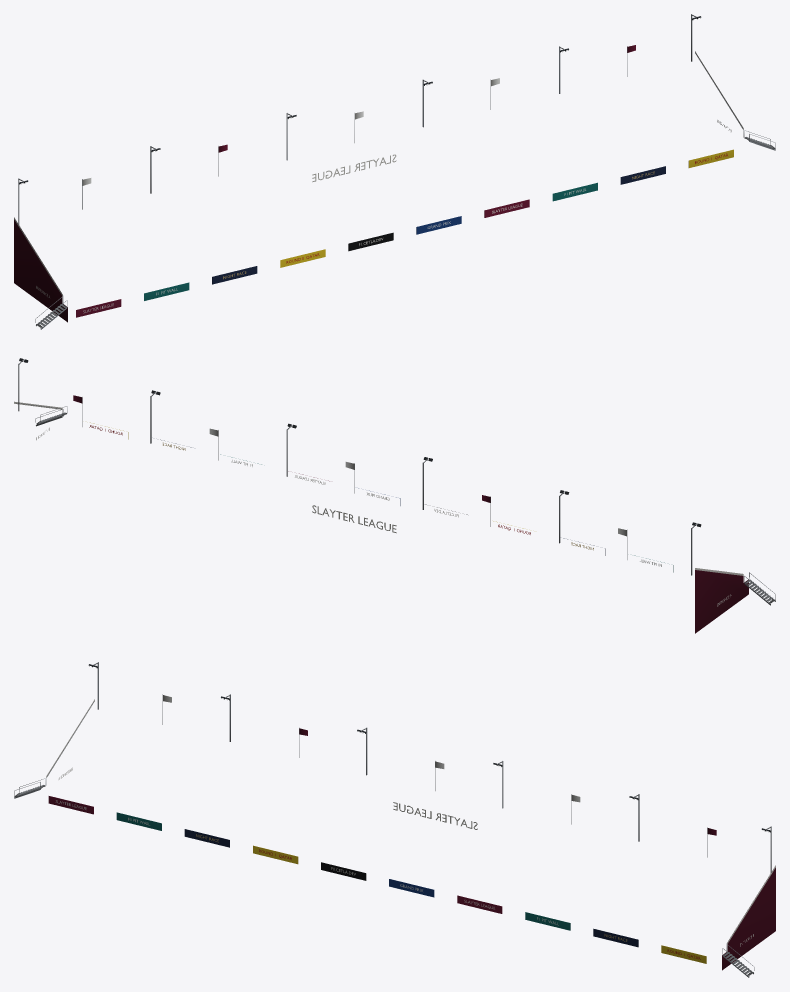
File: stand_T16_shell.glb
The picture shows the model from 3 angles, top to bottom: view 1: azimuth 30°, elevation 25°; view 2: azimuth 150°, elevation 25°; view 3: azimuth 330°, elevation 25°; orthographic projection.
Visible parts, largest first — view 1: stand_T16_shell; view 2: stand_T16_shell; view 3: stand_T16_shell.
Boxes of the visible parts, x1,y1,x2,y2 form: stand_T16_shell: [14, 14, 775, 329]; stand_T16_shell: [14, 358, 775, 633]; stand_T16_shell: [14, 662, 775, 977].
Bounding box in the file's own units: 111 × 15.28 × 14.17.
